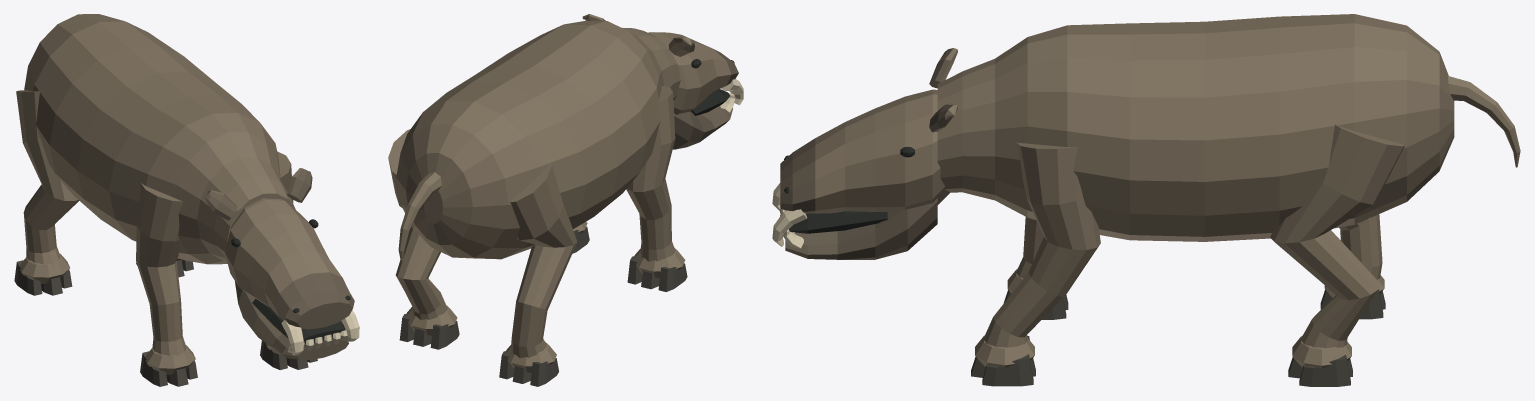
The picture shows the model from 3 angles, left to right: view 1: azimuth 30°, elevation 25°; view 2: azimuth 150°, elevation 25°; view 3: azimuth 270°, elevation 25°; orthographic projection. The views are drawn at different scales.
Parts seen in each view (by area): view 1: barrel_torso_and_short_neck, low_cranium_and_upper_muzzle, forelimb_left, hindlimb_left, deep_mandible, recessed_oral_cavity, foot_pad_hind_left, foot_pad_fore_left, ear_right, ear_left, toe_hind_left_1, toe_fore_left_1 (+4 smaller); view 2: barrel_torso_and_short_neck, hindlimb_left, forelimb_left, hindlimb_right, low_cranium_and_upper_muzzle, deep_mandible, short_tapering_tail, foot_pad_fore_left, foot_pad_hind_right, foot_pad_hind_left, toe_hind_right_1, toe_hind_left_1 (+4 smaller); view 3: barrel_torso_and_short_neck, low_cranium_and_upper_muzzle, hindlimb_right, forelimb_right, deep_mandible, hindlimb_left, short_tapering_tail, recessed_oral_cavity, toe_fore_right_3, toe_hind_right_3, foot_pad_fore_right, foot_pad_hind_right (+2 smaller).
Part boxes in pixels (x1=…): barrel_torso_and_short_neck: x1=24, y1=14, x2=295, y2=264; low_cranium_and_upper_muzzle: x1=225, y1=198, x2=354, y2=329; forelimb_left: x1=136, y1=183, x2=186, y2=356; hindlimb_left: x1=16, y1=90, x2=78, y2=267; deep_mandible: x1=235, y1=281, x2=348, y2=359; recessed_oral_cavity: x1=252, y1=298, x2=345, y2=344; foot_pad_hind_left: x1=20, y1=253, x2=69, y2=283; foot_pad_fore_left: x1=145, y1=345, x2=195, y2=374; ear_right: x1=287, y1=168, x2=312, y2=202; ear_left: x1=204, y1=190, x2=237, y2=220; toe_hind_left_1: x1=14, y1=260, x2=42, y2=295; toe_fore_left_1: x1=140, y1=351, x2=167, y2=386; barrel_torso_and_short_neck: x1=396, y1=20, x2=680, y2=259; hindlimb_left: x1=510, y1=162, x2=577, y2=358; forelimb_left: x1=626, y1=86, x2=675, y2=261; hindlimb_right: x1=388, y1=129, x2=447, y2=319; low_cranium_and_upper_muzzle: x1=648, y1=32, x2=738, y2=114; deep_mandible: x1=672, y1=105, x2=732, y2=149; short_tapering_tail: x1=398, y1=172, x2=441, y2=263; foot_pad_fore_left: x1=634, y1=248, x2=685, y2=277; foot_pad_hind_right: x1=406, y1=305, x2=457, y2=335; foot_pad_hind_left: x1=506, y1=342, x2=556, y2=372; toe_hind_right_1: x1=430, y1=320, x2=459, y2=349; toe_hind_left_1: x1=530, y1=358, x2=558, y2=386; barrel_torso_and_short_neck: x1=937, y1=14, x2=1454, y2=241; low_cranium_and_upper_muzzle: x1=780, y1=89, x2=949, y2=213; hindlimb_right: x1=1270, y1=125, x2=1405, y2=348; forelimb_right: x1=982, y1=142, x2=1100, y2=347; deep_mandible: x1=785, y1=198, x2=937, y2=259; hindlimb_left: x1=1339, y1=214, x2=1382, y2=279; short_tapering_tail: x1=1448, y1=76, x2=1520, y2=167; recessed_oral_cavity: x1=789, y1=211, x2=887, y2=233; toe_fore_right_3: x1=982, y1=354, x2=1033, y2=386; toe_hind_right_3: x1=1299, y1=355, x2=1350, y2=386; foot_pad_fore_right: x1=975, y1=335, x2=1034, y2=367; foot_pad_hind_right: x1=1292, y1=335, x2=1351, y2=368.
Size of the model in its own units: 0.95 by 1.4 by 3.
